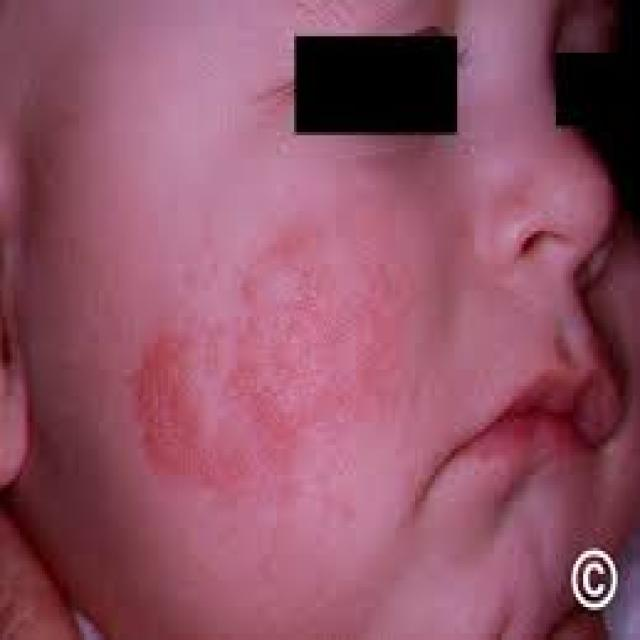Eczema: (134, 318, 382, 510)
